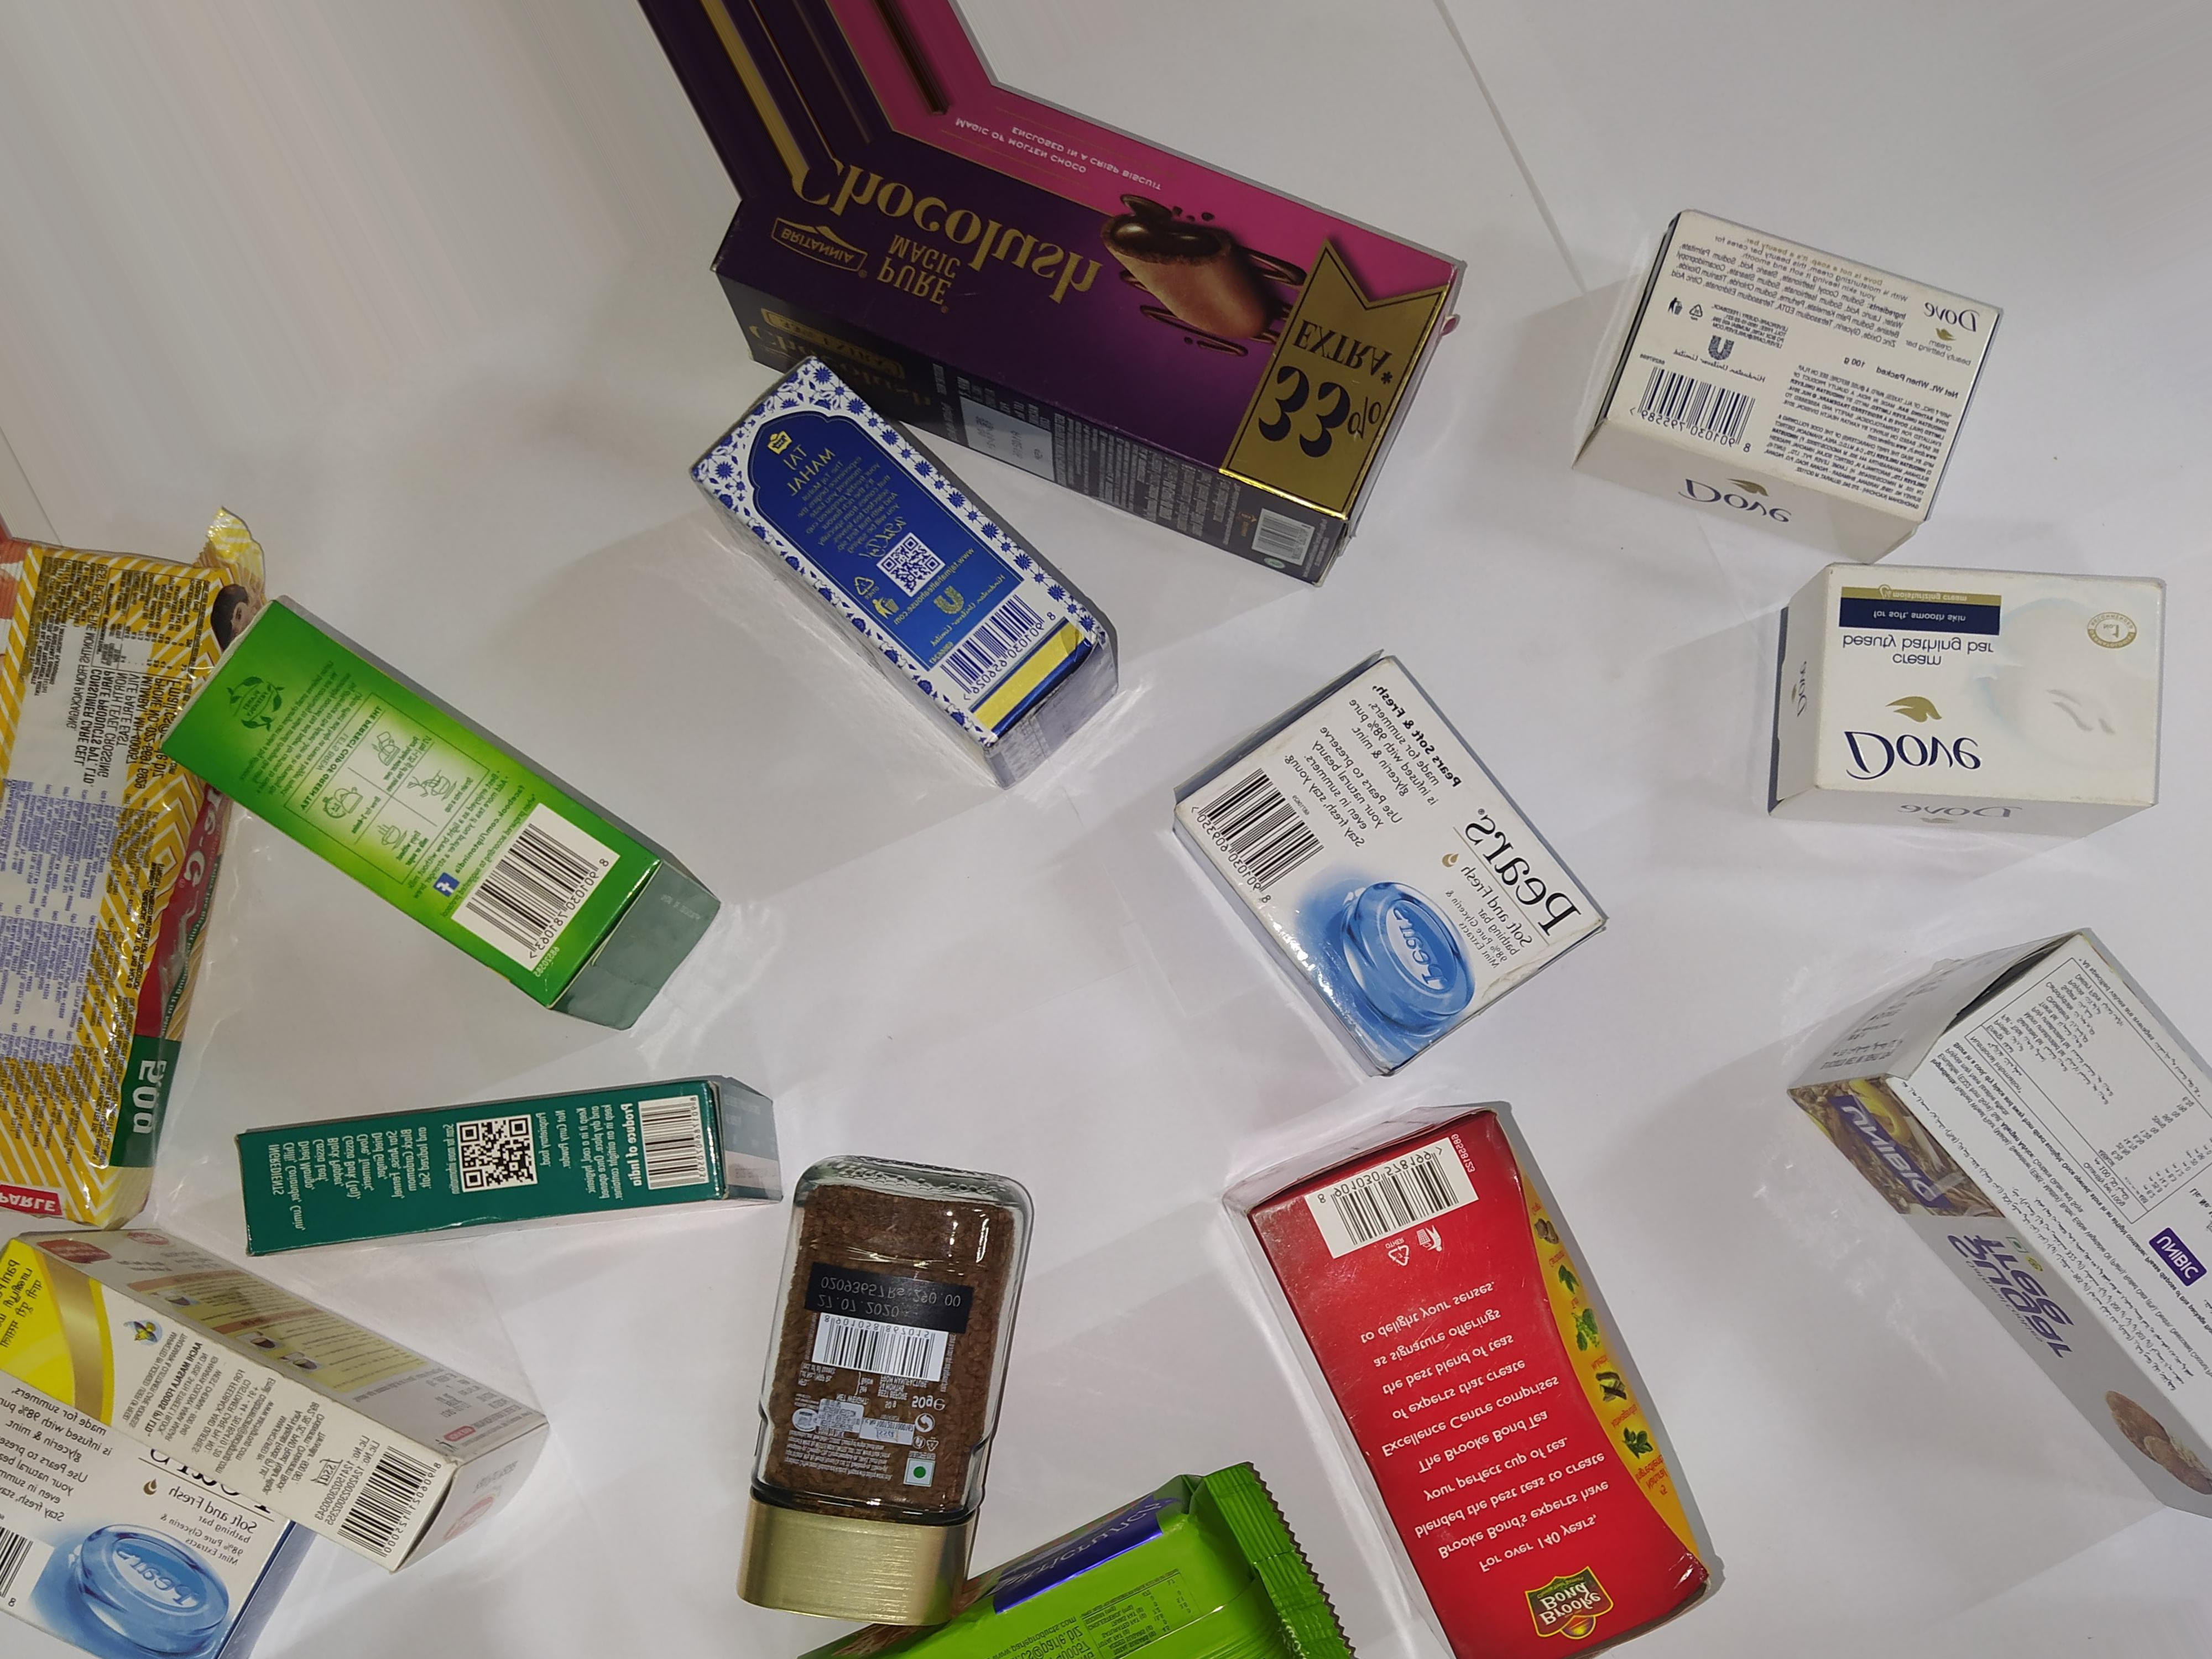Bar_code: (465, 810, 622, 992), (1285, 1140, 1489, 1249), (320, 1431, 448, 1581), (1191, 772, 1324, 903), (794, 1293, 961, 1389), (937, 596, 1062, 714), (1632, 357, 1764, 455), (625, 1082, 732, 1202), (1247, 511, 1318, 587)
Item: (718, 125, 1454, 596), (1205, 1086, 1750, 1650), (1766, 918, 2212, 1542), (157, 592, 723, 1058), (671, 322, 1137, 810), (1143, 657, 1635, 1080), (0, 1239, 603, 1563), (1571, 209, 2026, 568), (0, 498, 216, 1229), (1752, 559, 2182, 861), (761, 1122, 1003, 1636), (218, 1082, 787, 1260)
QR_code: (456, 1117, 550, 1195), (880, 530, 951, 598)
